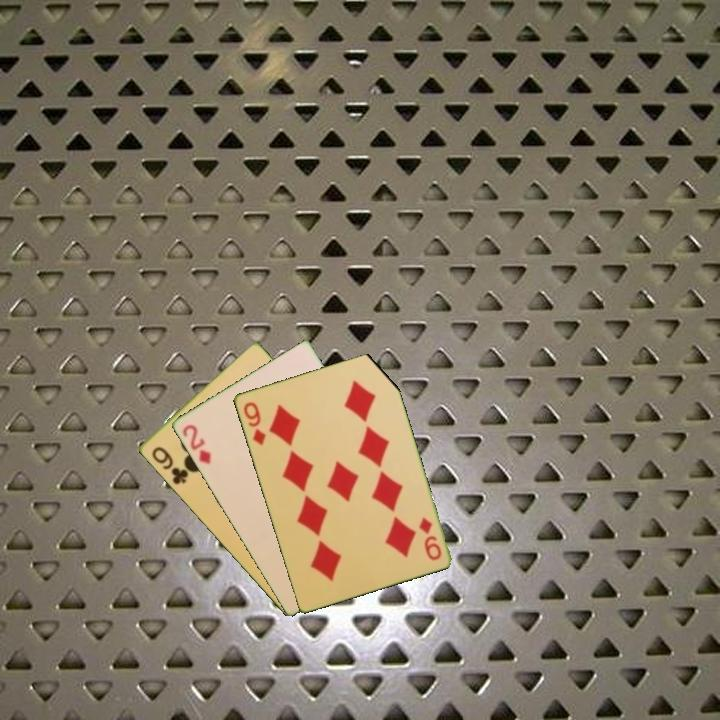2d: (178, 421, 214, 467)
9c: (148, 443, 191, 488)
9d: (415, 514, 444, 563), (240, 398, 268, 448)
